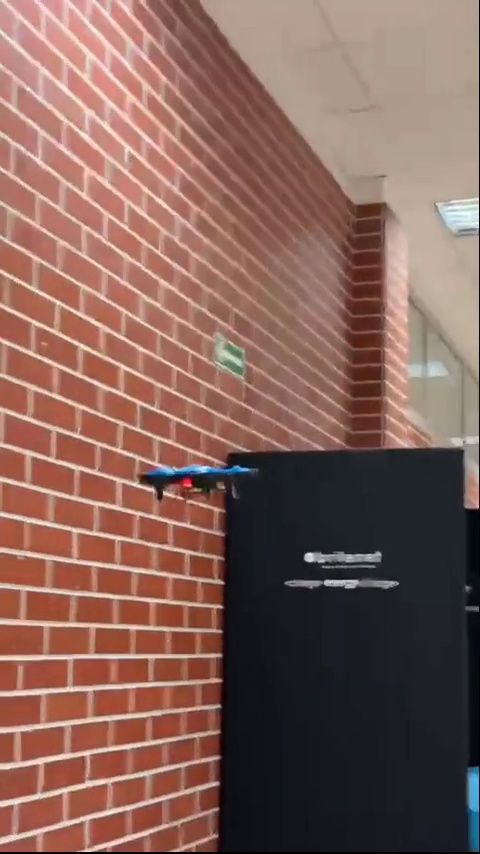drone: (136, 460, 258, 503)
